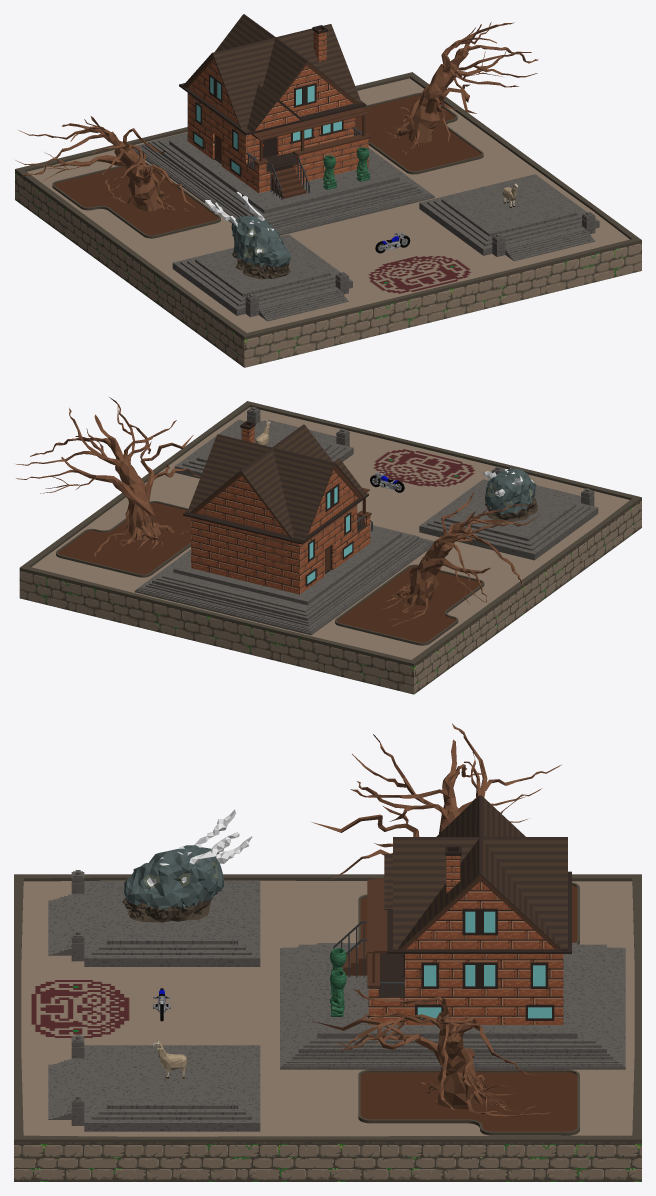
3 views of the same model, one above another, from view 1: azimuth 30°, elevation 25°; view 2: azimuth 150°, elevation 25°; view 3: azimuth 270°, elevation 25° (orthographic). The views are drawn at different scales.
Parts seen in each view (by area): view 1: Cube.011, Cube.469, OBJRANDOM_METEORITE; view 2: Cube.011, Cube.469, OBJRANDOM_METEORITE; view 3: Cube.011, Cube.469, OBJRANDOM_METEORITE.
Boxes of the visible parts, x1=… form: Cube.011: x1=15, y1=22, x2=641, y2=367; Cube.469: x1=179, y1=14, x2=371, y2=199; OBJRANDOM_METEORITE: x1=205, y1=191, x2=290, y2=279; Cube.011: x1=14, y1=397, x2=641, y2=694; Cube.469: x1=183, y1=421, x2=372, y2=594; OBJRANDOM_METEORITE: x1=482, y1=468, x2=537, y2=521; Cube.011: x1=14, y1=723, x2=641, y2=1181; Cube.469: x1=333, y1=795, x2=571, y2=1024; OBJRANDOM_METEORITE: x1=122, y1=809, x2=252, y2=922.
Size of the model in its own units: 5099 by 1683 by 4000.
Materials: 30 (7 with a texture image).
